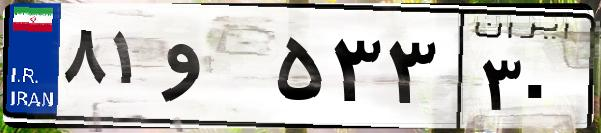0: (525, 38, 570, 115)
1: (110, 28, 158, 98)
3: (385, 28, 445, 110), (330, 28, 385, 110), (475, 38, 525, 113)
5: (270, 28, 330, 110)
8: (57, 26, 110, 100)
و: (158, 20, 270, 120)
